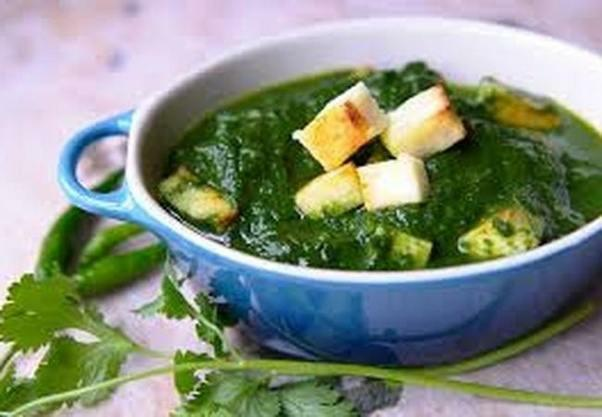PalakPaneer: (161, 60, 602, 277)
